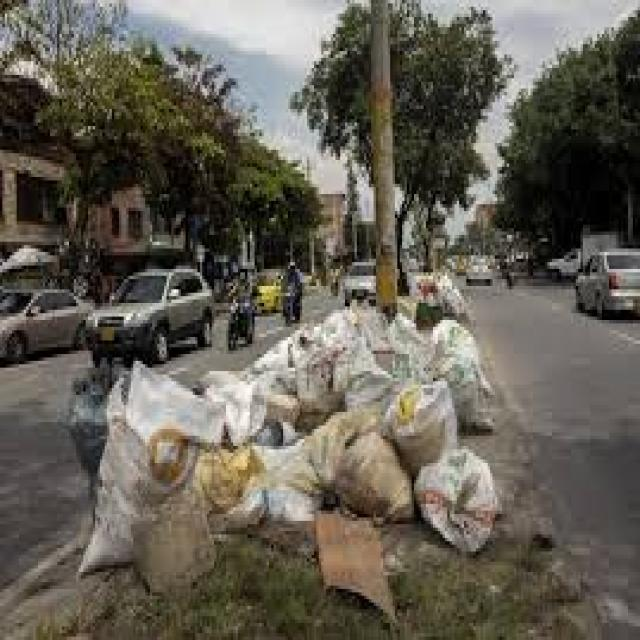garbage: (60, 315, 503, 608)
